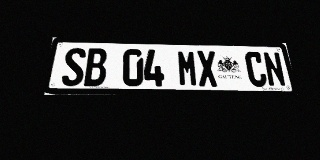0: (122, 49, 143, 86)
4: (144, 49, 164, 86)
B: (84, 48, 107, 86)
C: (244, 51, 268, 87)
M: (177, 50, 198, 87)
N: (262, 52, 287, 87)
S: (61, 48, 86, 86)
X: (196, 50, 219, 87)
